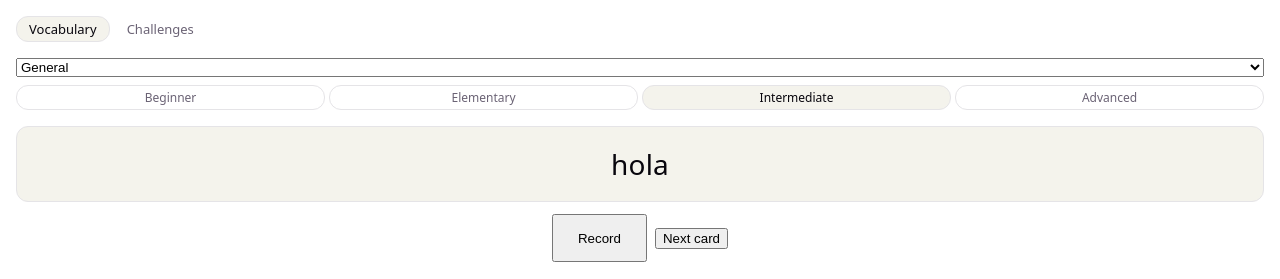
PronunciationView — vocabulary tab (default) › Next card advances to second card
Expected: the text "hola" is shown, 16,126 -> 1264,202
Click the button "Next card" at point(692, 238), box 655,228 -> 728,249
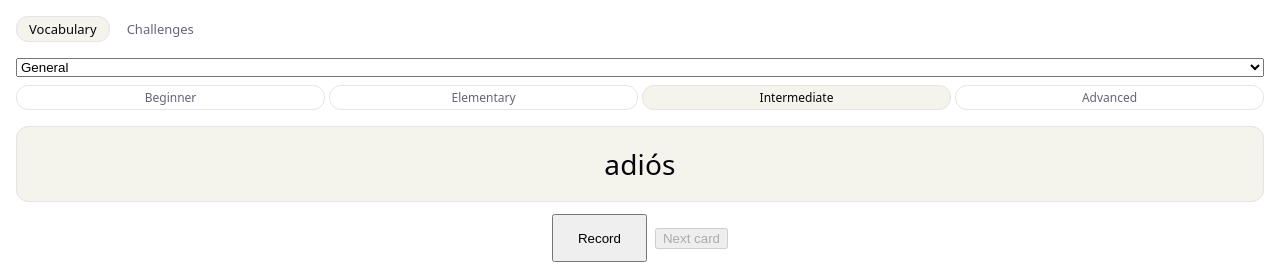
Now the text "adiós" is shown, box 16,126 -> 1264,202
